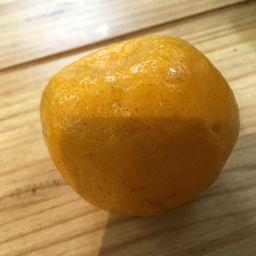Unripe: (41, 34, 241, 217)
